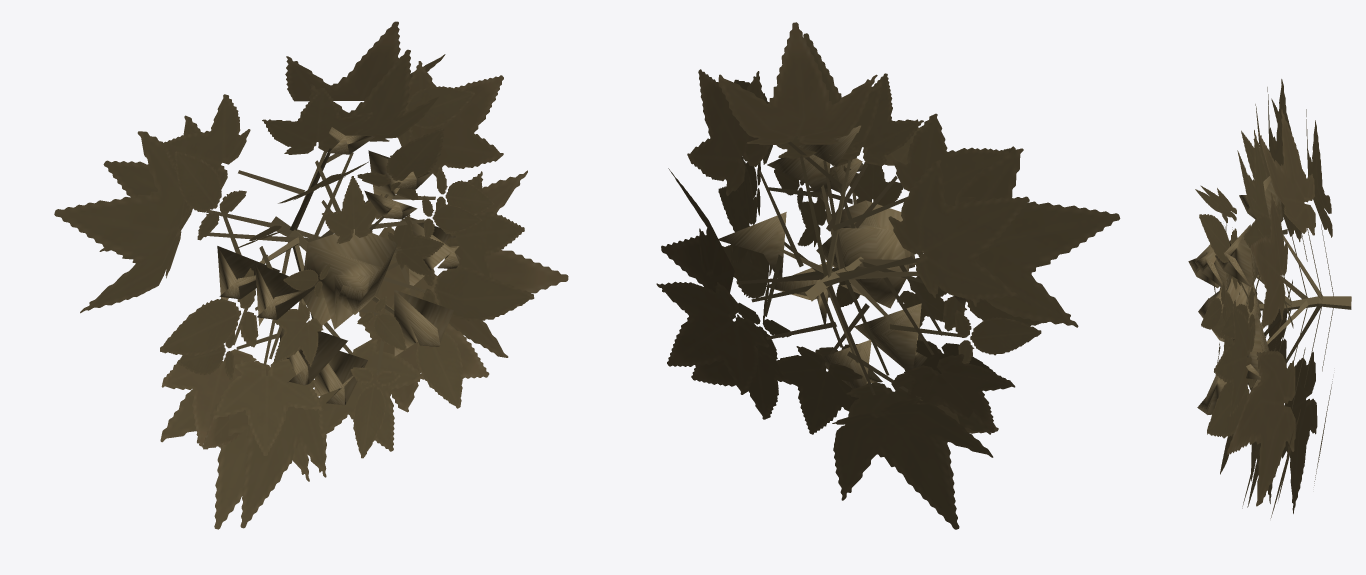
The model's file is p_afghan_ripe_c4_cards.obj.
3 renders of one model, left to right at view 1: azimuth 30°, elevation 25°; view 2: azimuth 150°, elevation 25°; view 3: azimuth 270°, elevation 25°, orthographic. The views are drawn at different scales.
Bounding box in the file's own units: 1.47 × 1.4 × 0.42.
1 material, 1 textured.
